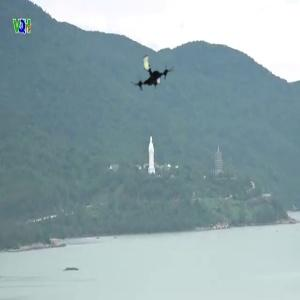drone: (131, 53, 176, 98)
